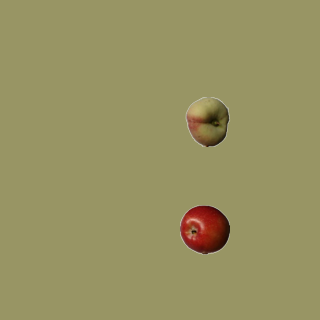Apple Braeburn: (179, 204, 229, 254)
Peach Flat: (182, 96, 232, 146)
